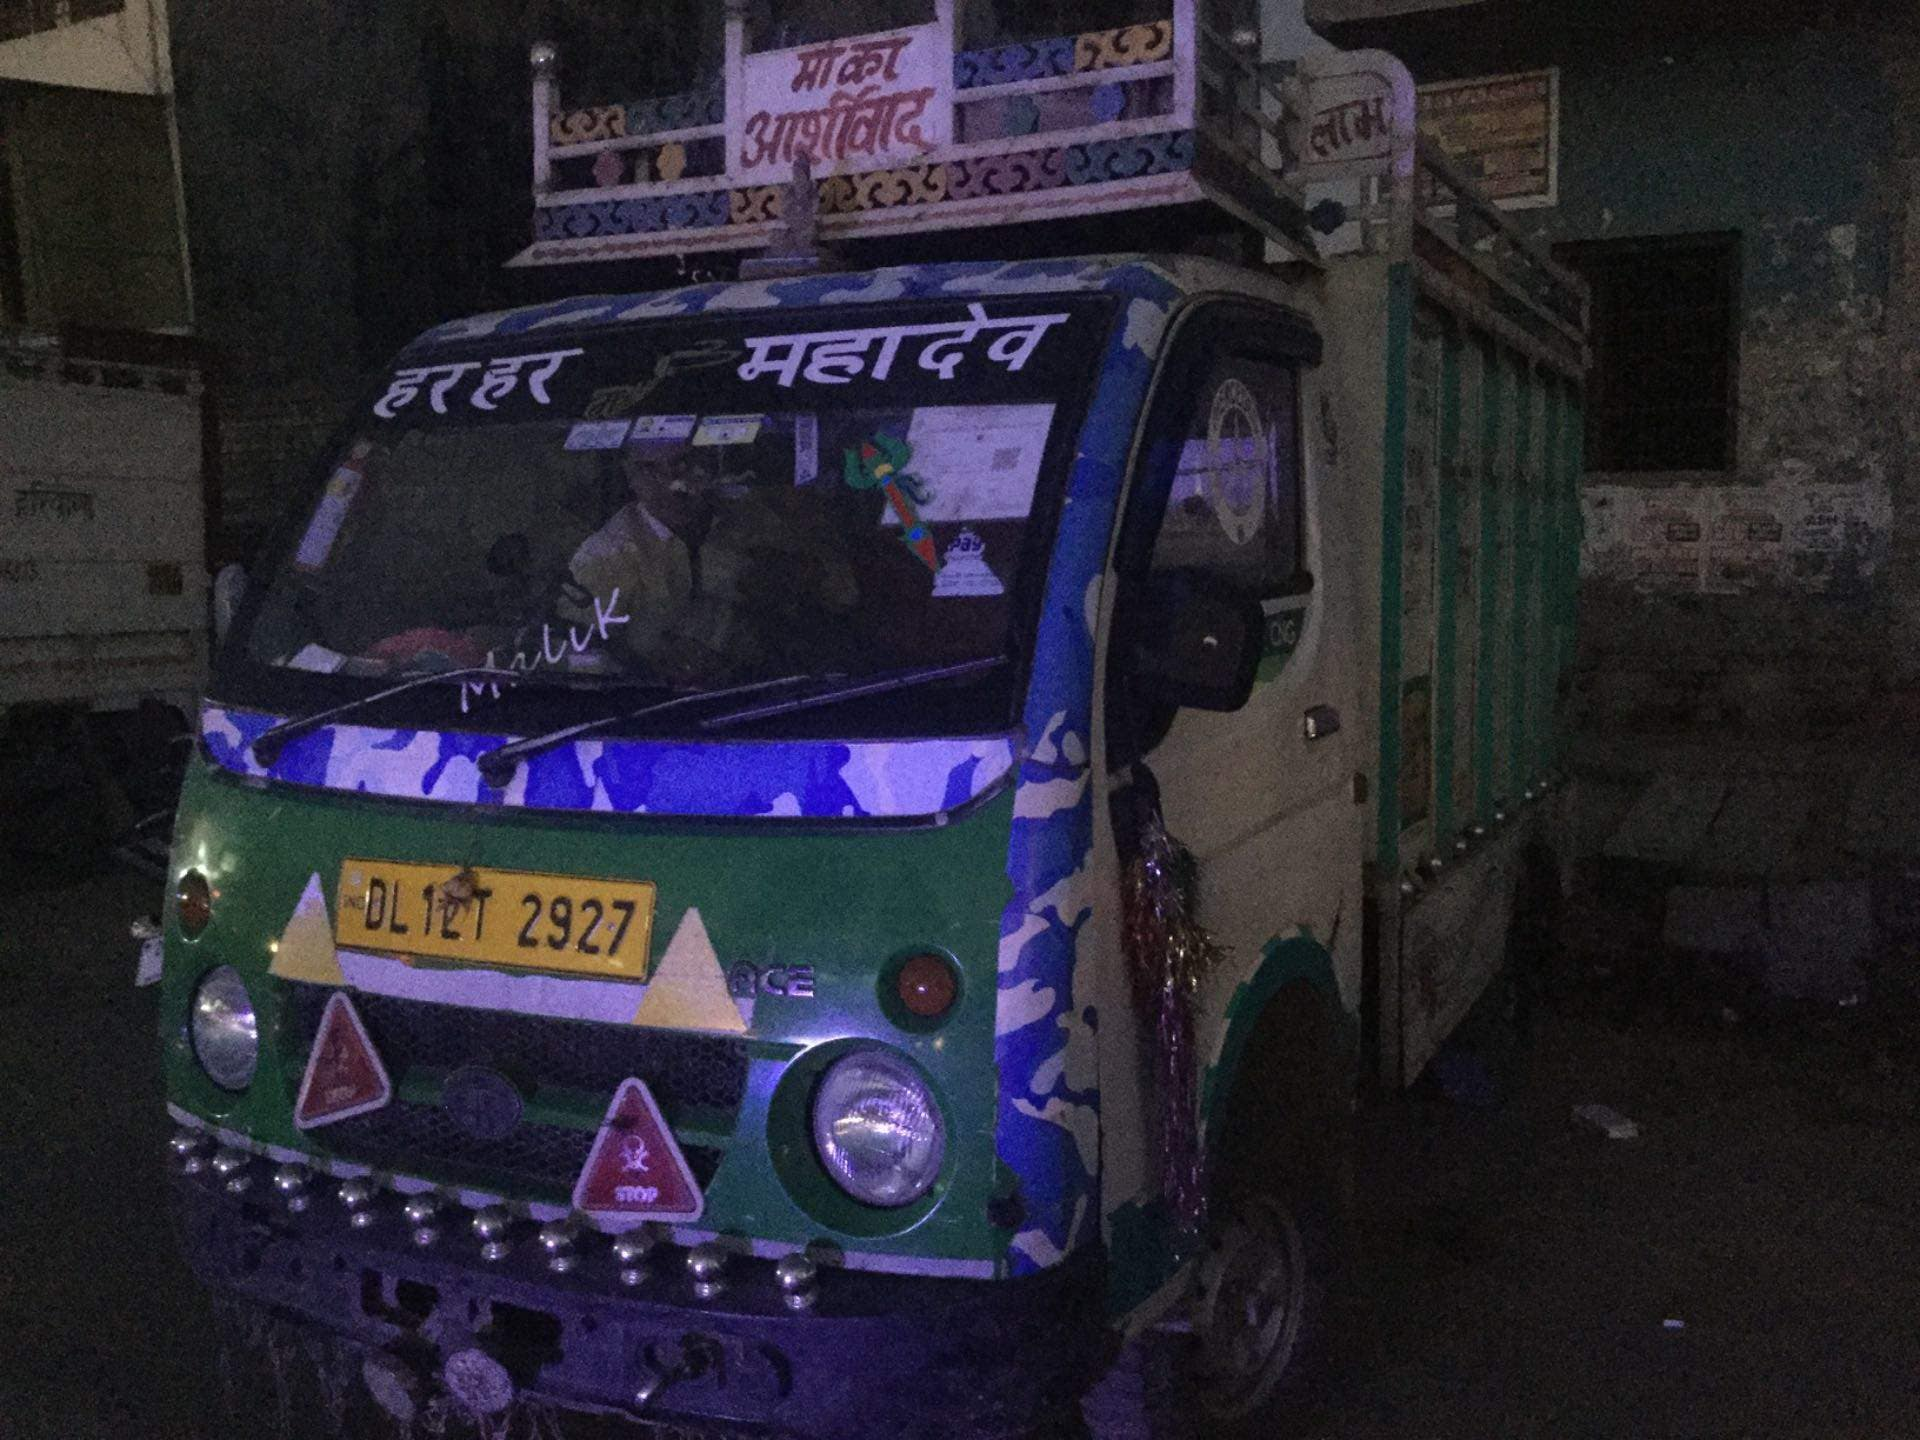numberplate: (333, 852, 657, 984)
